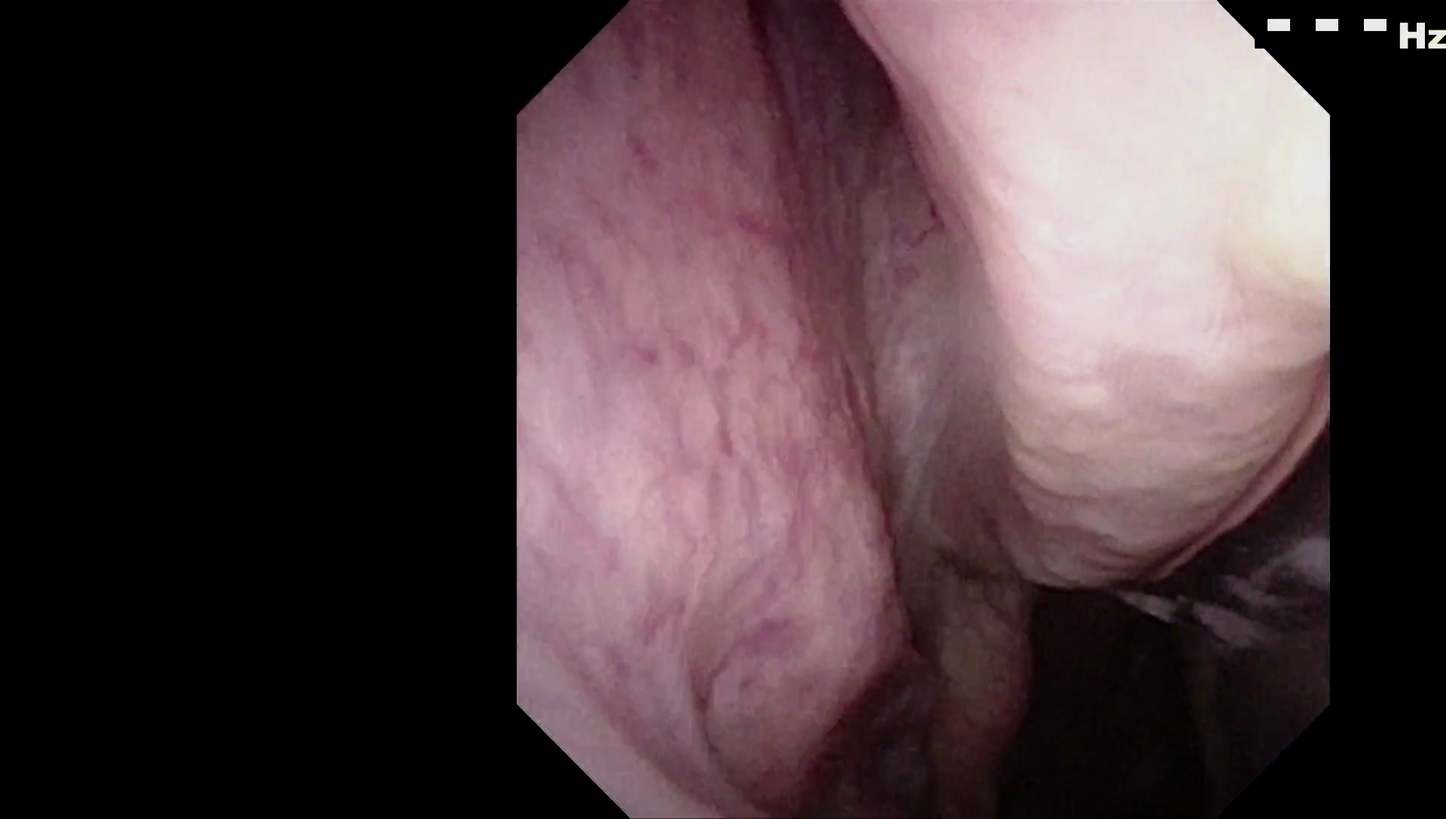close_wall: (886, 52, 1267, 427)
next: (987, 535, 1215, 819)
